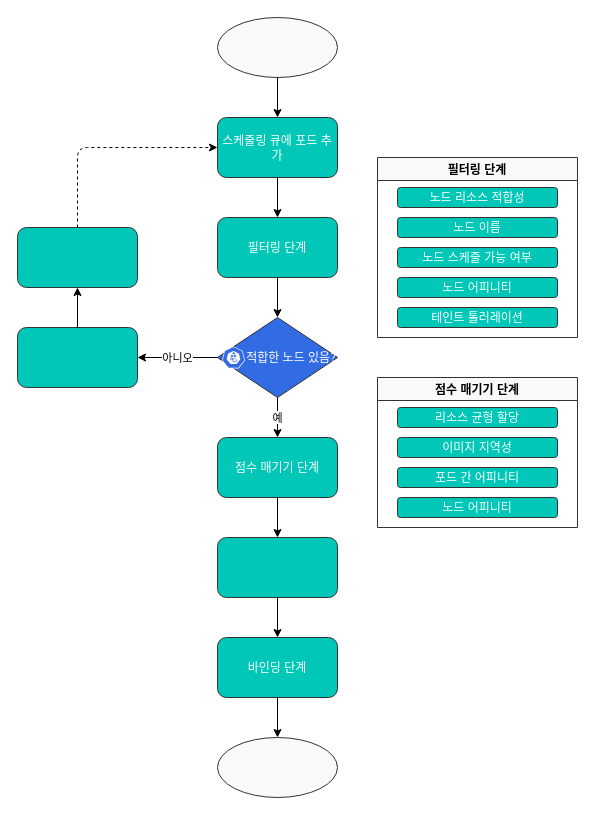
The diagram is 595 pixels wide and 815 high, and some of its shapes have lost their labels. Each missing label, with the centre of its shape:
스케줄링 불가능으로 표시: (x=77, y=357)
스케줄링 시작: (x=277, y=47)
스케줄링 완료: (x=277, y=767)
재시도 큐에 추가: (x=77, y=257)
최고 점수 노드 선택: (x=277, y=567)
